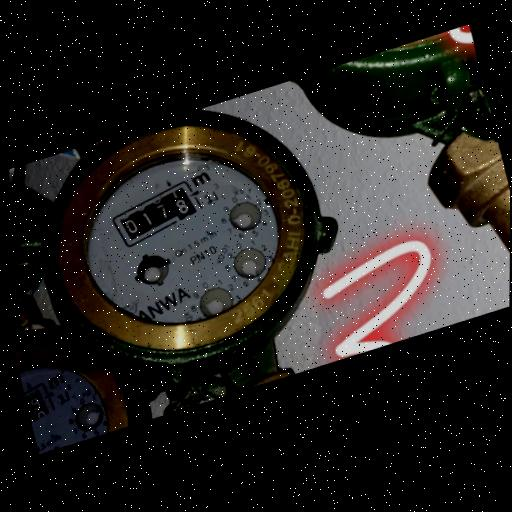0: (120, 210, 144, 242)
1: (131, 202, 160, 236)
7: (147, 191, 180, 227)
8: (166, 181, 199, 223)
border_water_meter_number: (106, 170, 209, 253)
